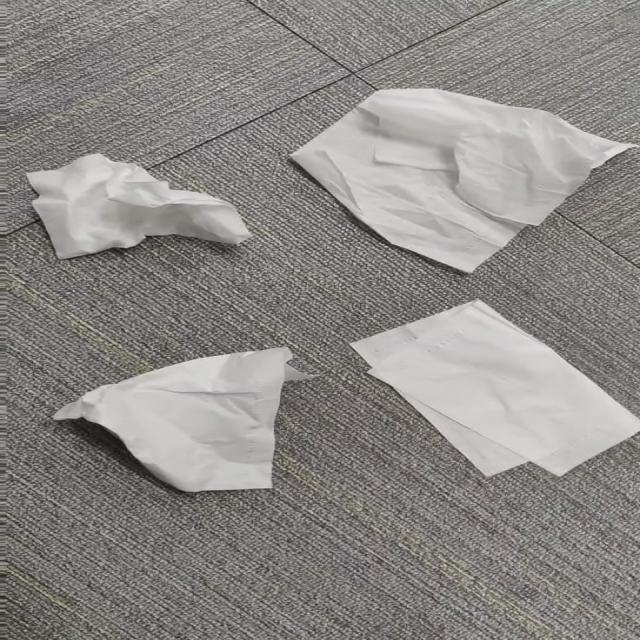paper: (292, 89, 634, 272), (354, 301, 639, 475), (55, 348, 304, 491), (28, 154, 249, 259)
